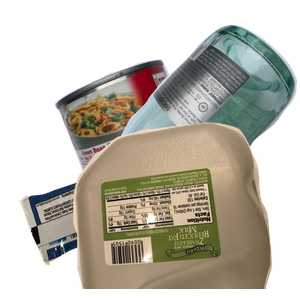glass: (86, 22, 300, 202)
metal: (52, 57, 260, 237)
plastic: (71, 120, 300, 300)
trash: (17, 123, 257, 300)
